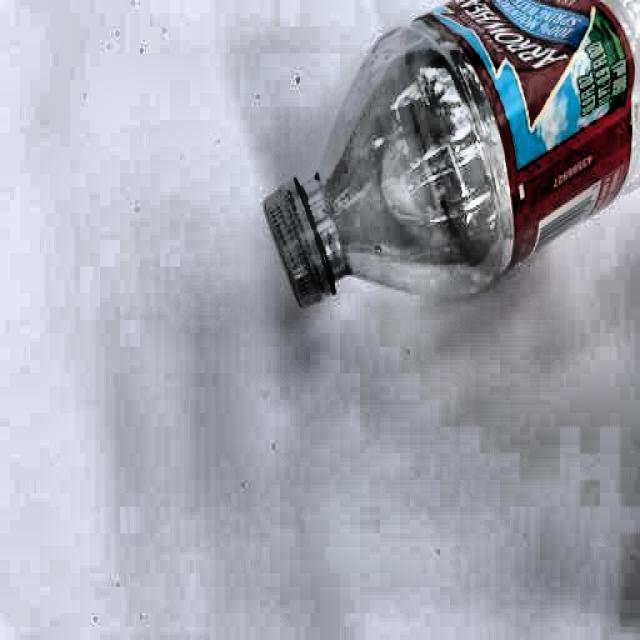plastic: (256, 6, 640, 315)
